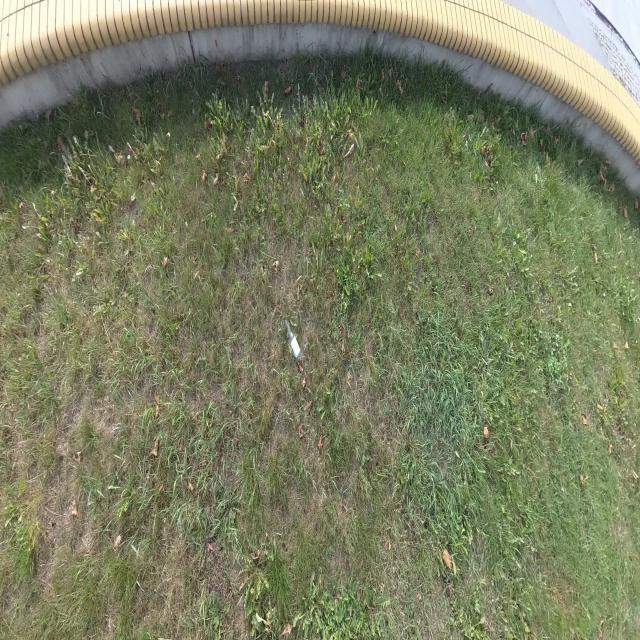rubbish: (285, 314, 302, 361)
